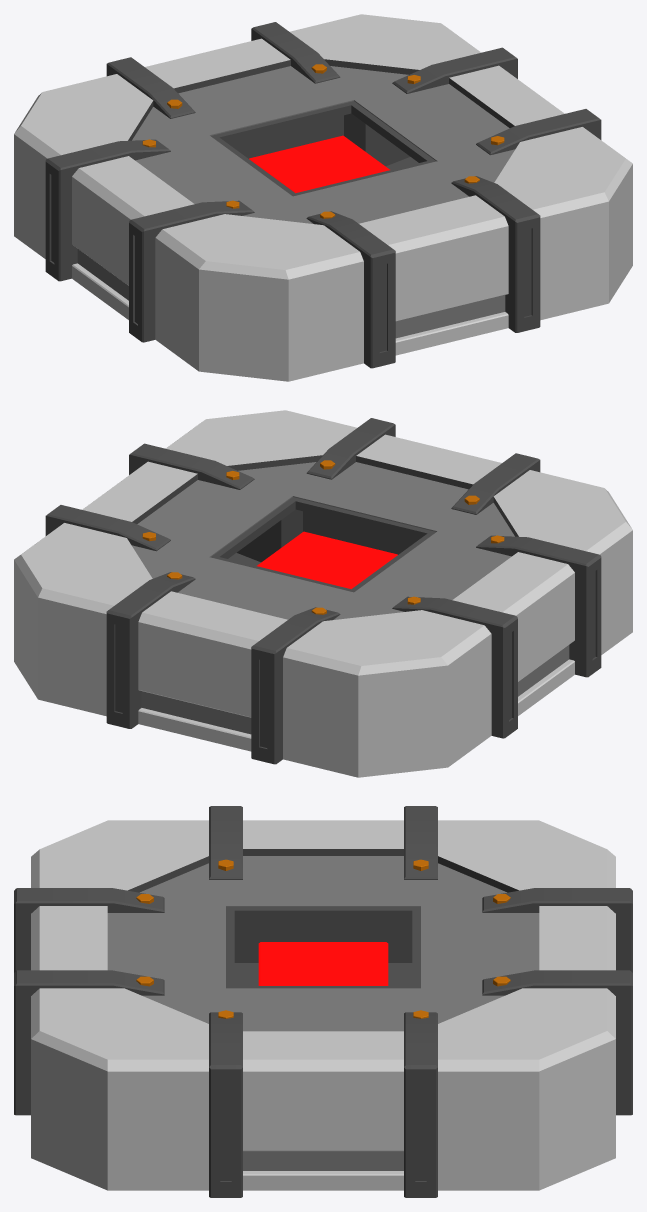
File: Sample_Analyser.fbx
The picture shows the model from 3 angles, top to bottom: view 1: azimuth 30°, elevation 25°; view 2: azimuth 150°, elevation 25°; view 3: azimuth 270°, elevation 25°; orthographic projection. The views are drawn at different scales.
Parts seen in each view (by area): view 1: Sample Analyser, Sample_Analyser_Indicator; view 2: Sample Analyser, Sample_Analyser_Indicator; view 3: Sample Analyser, Sample_Analyser_Indicator.
Boxes of the visible parts, x1,y1,x2,y2 form: Sample Analyser: [14, 14, 632, 381]; Sample_Analyser_Indicator: [249, 135, 389, 193]; Sample Analyser: [14, 410, 632, 777]; Sample_Analyser_Indicator: [257, 531, 397, 589]; Sample Analyser: [14, 806, 632, 1197]; Sample_Analyser_Indicator: [258, 942, 388, 985].
Size of the model in its own units: 0.7157 by 0.7157 by 0.1676.
